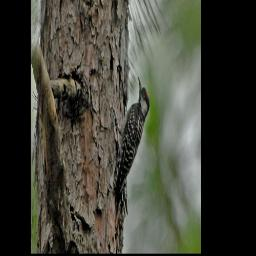Woodpecker: (112, 71, 150, 210)
